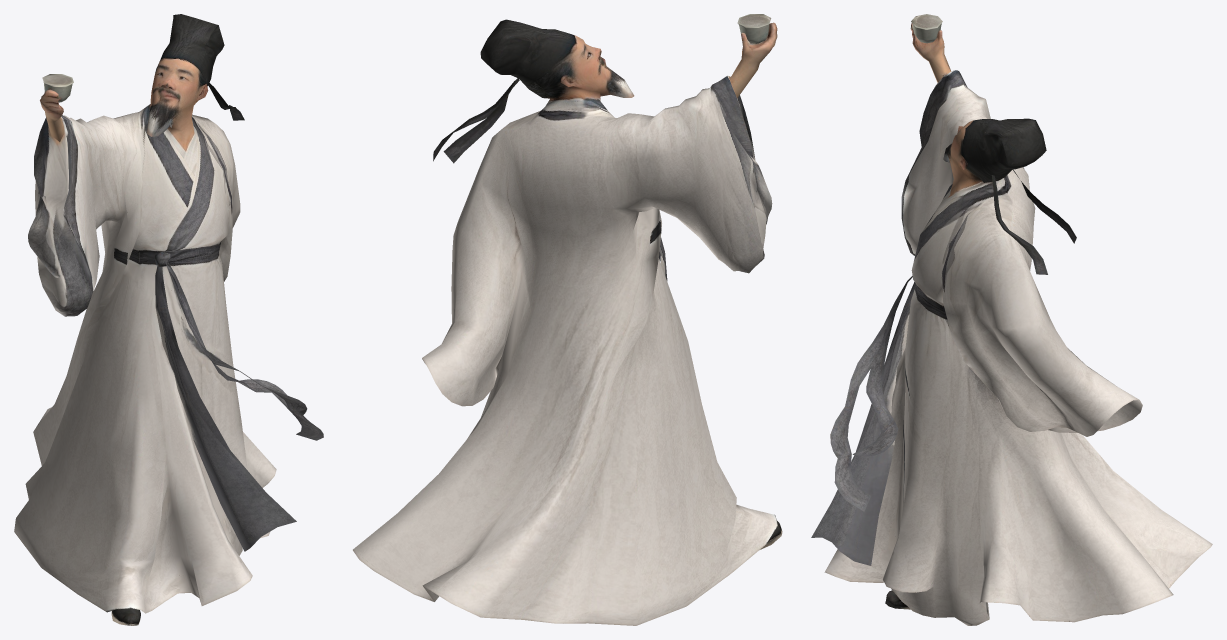
Rendered from sushi.glb.
3 renders of one model, left to right at view 1: azimuth 30°, elevation 25°; view 2: azimuth 150°, elevation 25°; view 3: azimuth 270°, elevation 25°, orthographic. The views are drawn at different scales.
Visible parts, largest first — view 1: tripo_node_73de90d3-5ec0-41e6-826e-0e3a37322554; view 2: tripo_node_73de90d3-5ec0-41e6-826e-0e3a37322554; view 3: tripo_node_73de90d3-5ec0-41e6-826e-0e3a37322554.
Boxes of the visible parts, <box> form: tripo_node_73de90d3-5ec0-41e6-826e-0e3a37322554: <box>14,14,323,625</box>; tripo_node_73de90d3-5ec0-41e6-826e-0e3a37322554: <box>353,14,782,625</box>; tripo_node_73de90d3-5ec0-41e6-826e-0e3a37322554: <box>811,14,1212,625</box>.
Size of the model in its own units: 0.5659 by 0.9995 by 0.7114.
1 material, 1 textured.
